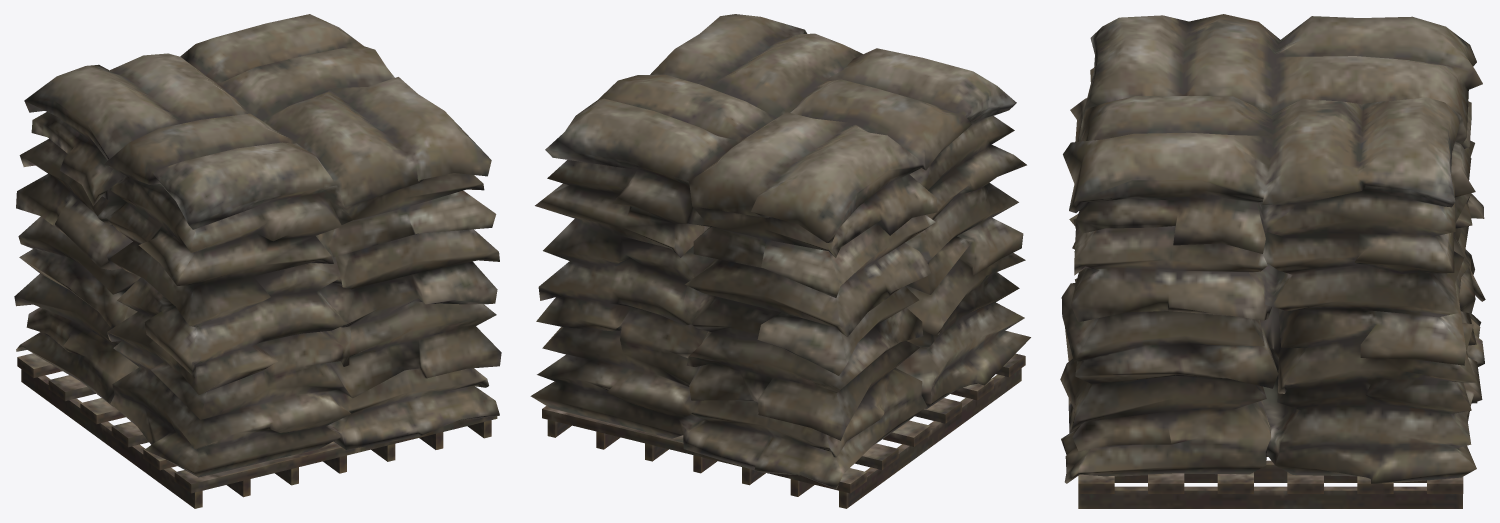
File: sm22_054_packedgrains01a.fbx
3 renders of one model, left to right at view 1: azimuth 30°, elevation 25°; view 2: azimuth 150°, elevation 25°; view 3: azimuth 270°, elevation 25°, orthographic. The views are drawn at different scales.
Visible parts, largest first — view 1: LOD_1_Group_0_Sub_1__sm22_054_PackedGrains01A_A_Mat; view 2: LOD_1_Group_0_Sub_1__sm22_054_PackedGrains01A_A_Mat; view 3: LOD_1_Group_0_Sub_1__sm22_054_PackedGrains01A_A_Mat.
Part boxes in pixels (x1,y1,x2,y2): LOD_1_Group_0_Sub_1__sm22_054_PackedGrains01A_A_Mat: [14, 14, 501, 508]; LOD_1_Group_0_Sub_1__sm22_054_PackedGrains01A_A_Mat: [530, 14, 1030, 508]; LOD_1_Group_0_Sub_1__sm22_054_PackedGrains01A_A_Mat: [1060, 14, 1485, 508].
Size of the model in its own units: 1.49 by 1.39 by 1.52.
